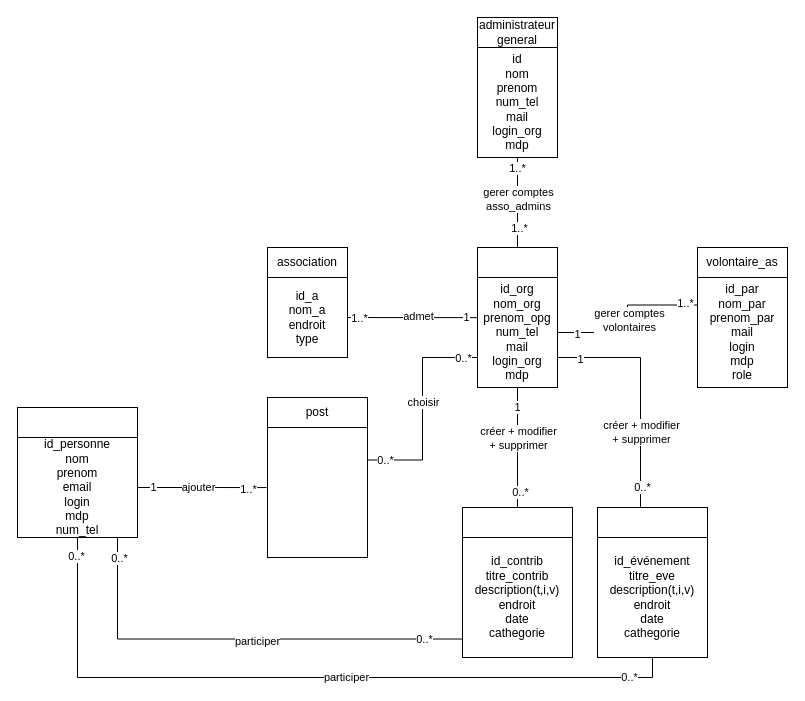
Image size: 805x701. Some labels were removed from this diagram. Here are the shapes that lost their labels. From the top down, the centre of each, then its label:
At [517,262]: "administrateur association".
At [77,422]: "personne".
At [317,492]: "id_post description(t,i,v) endroit date/durée num_tel_poster email_poster".
At [517,522]: "contribution".
At [652,522]: "événement".
